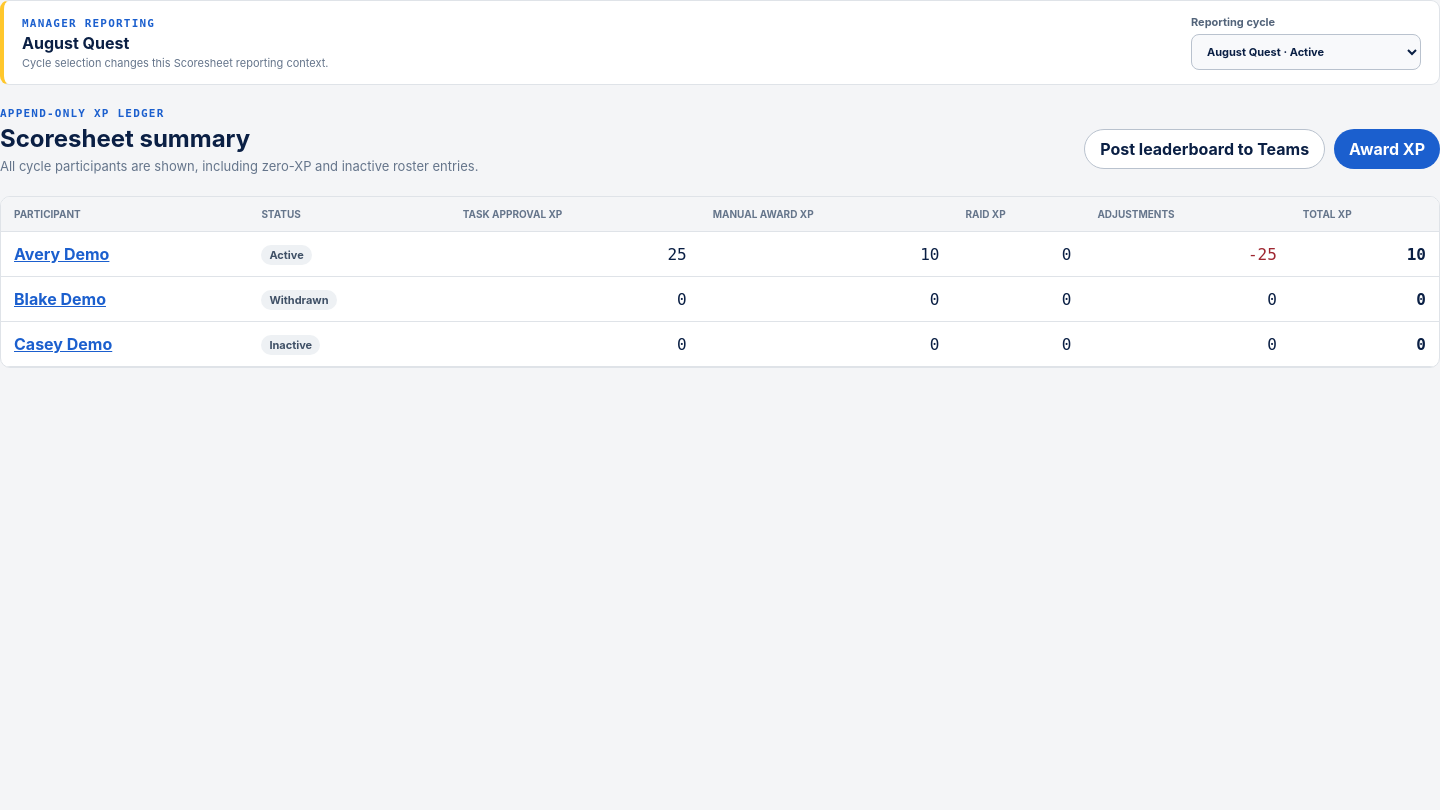
manager Scoresheet › loads participant detail lazily with source labels, signed ledger and API summary total
Click the button "Avery Demo": {"x": 62, "y": 254} [14,244,109,264]
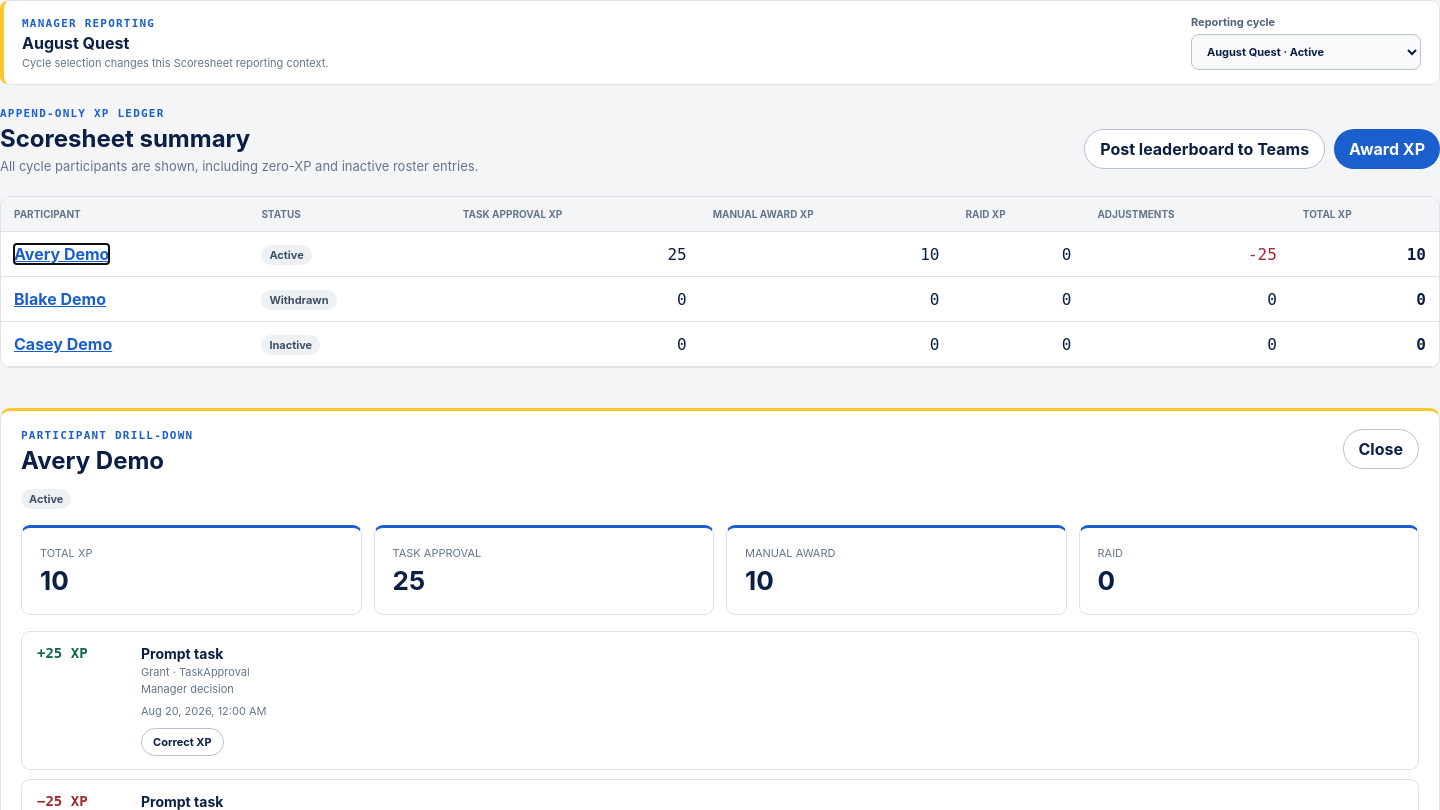
Result: the text "+25 XP" is shown at [37,645,88,661]
Result: the text "−25 XP" is shown at [37,793,88,809]
Result: the number of headings "Prompt task" is 2 at [141,645,223,662]; [141,793,223,809]
